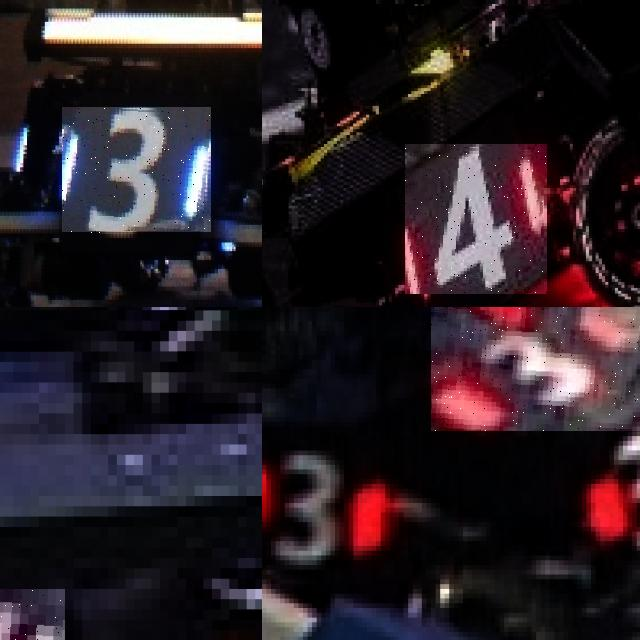B3: (62, 108, 211, 234)
R3: (430, 307, 640, 431), (262, 436, 389, 569), (577, 417, 640, 550)
R4: (405, 144, 547, 294), (0, 589, 65, 640)
